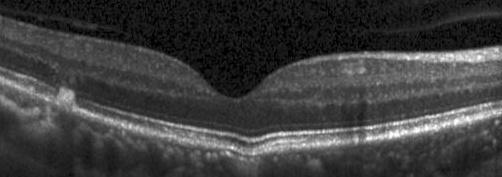retinal_drusen: (57, 88, 78, 112)
vitreomacular_traction: (2, 7, 146, 46), (369, 12, 500, 32)
